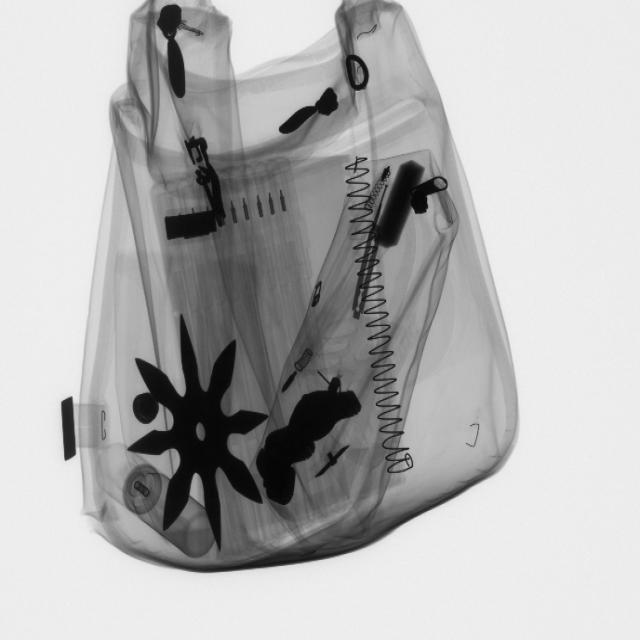BLADE: (352, 232, 382, 332)
SHURIKEN: (123, 313, 270, 552)
